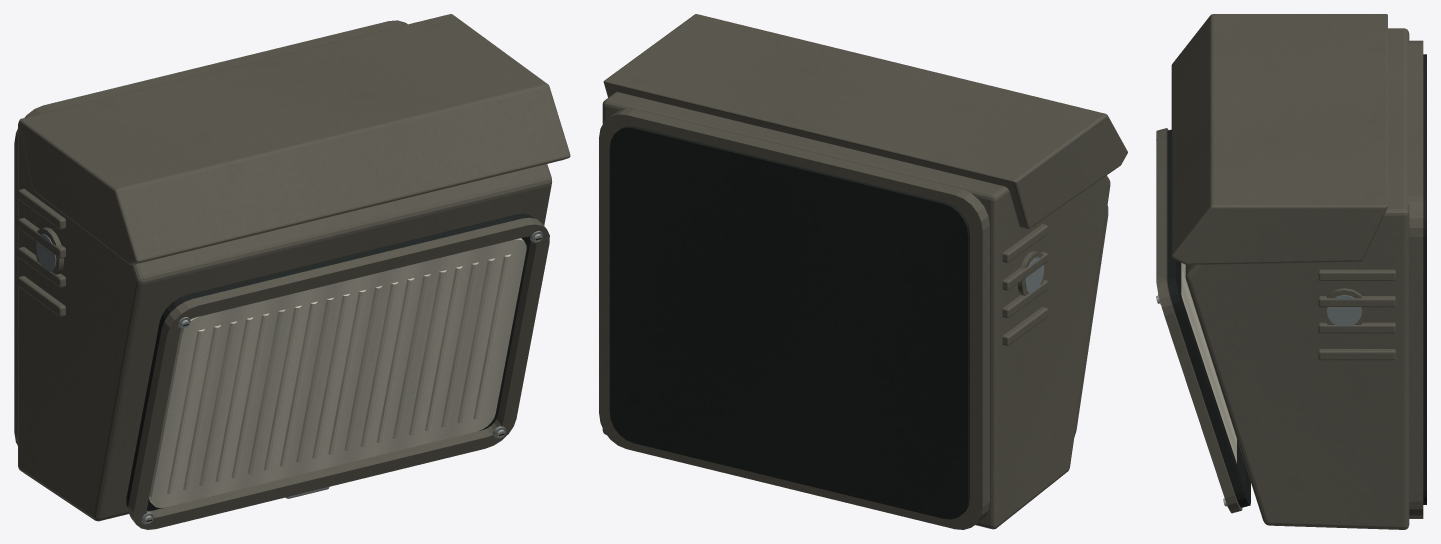
Rendered from SM_Exterior_WallPack.fbx.
3 renders of one model, left to right at view 1: azimuth 30°, elevation 25°; view 2: azimuth 150°, elevation 25°; view 3: azimuth 270°, elevation 25°, orthographic. The views are drawn at different scales.
Visible parts, largest first — view 1: SM_Exterior_WallPack; view 2: SM_Exterior_WallPack; view 3: SM_Exterior_WallPack.
Part boxes in pixels (box(x1,y1,x2,y2)): SM_Exterior_WallPack: box(14, 14, 570, 529); SM_Exterior_WallPack: box(599, 14, 1127, 529); SM_Exterior_WallPack: box(1156, 14, 1426, 529).
Size of the model in its own units: 0.36 by 0.2136 by 0.2974.
